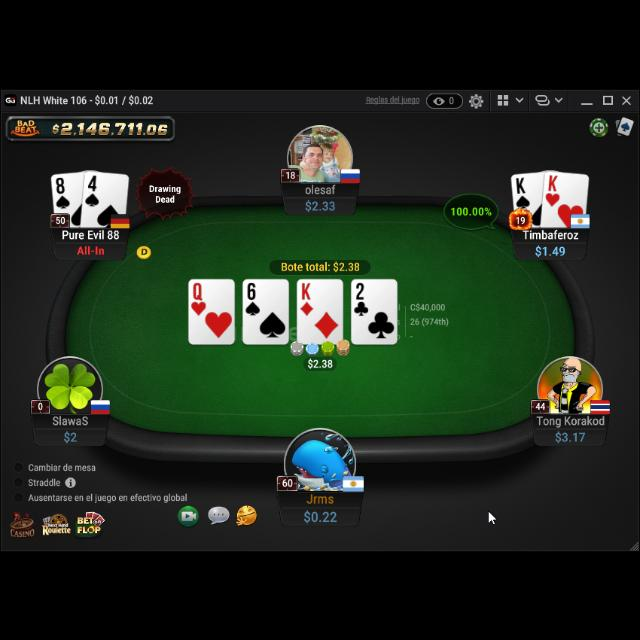2c: (352, 280, 370, 318)
4s: (82, 172, 100, 208)
6s: (244, 281, 262, 317)
8s: (53, 175, 73, 209)
Kd: (300, 280, 314, 316)
Kh: (544, 173, 560, 207)
Ks: (514, 174, 532, 210)
Qh: (190, 280, 207, 316)
all_in_symbol: (76, 242, 106, 255)
dealer: (135, 242, 153, 258)
pot_text: (281, 259, 361, 271)
stack_text: (301, 506, 339, 524), (553, 428, 587, 442), (303, 197, 337, 211), (534, 242, 566, 256), (64, 427, 78, 441)
